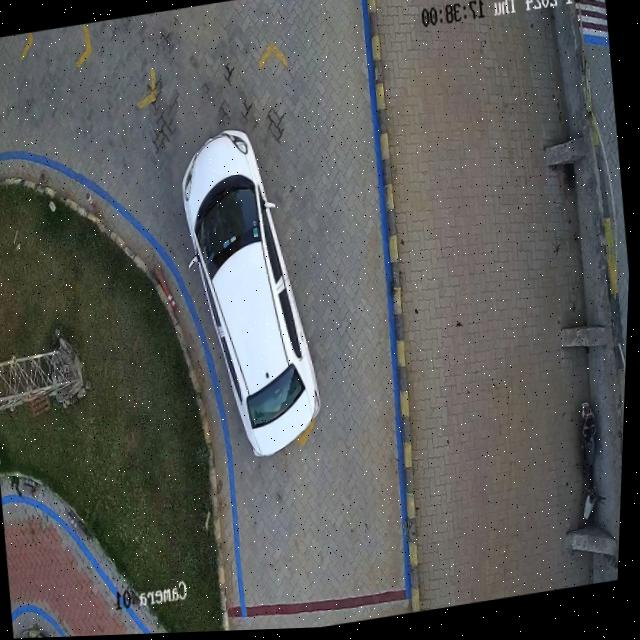car: (184, 132, 323, 460)
